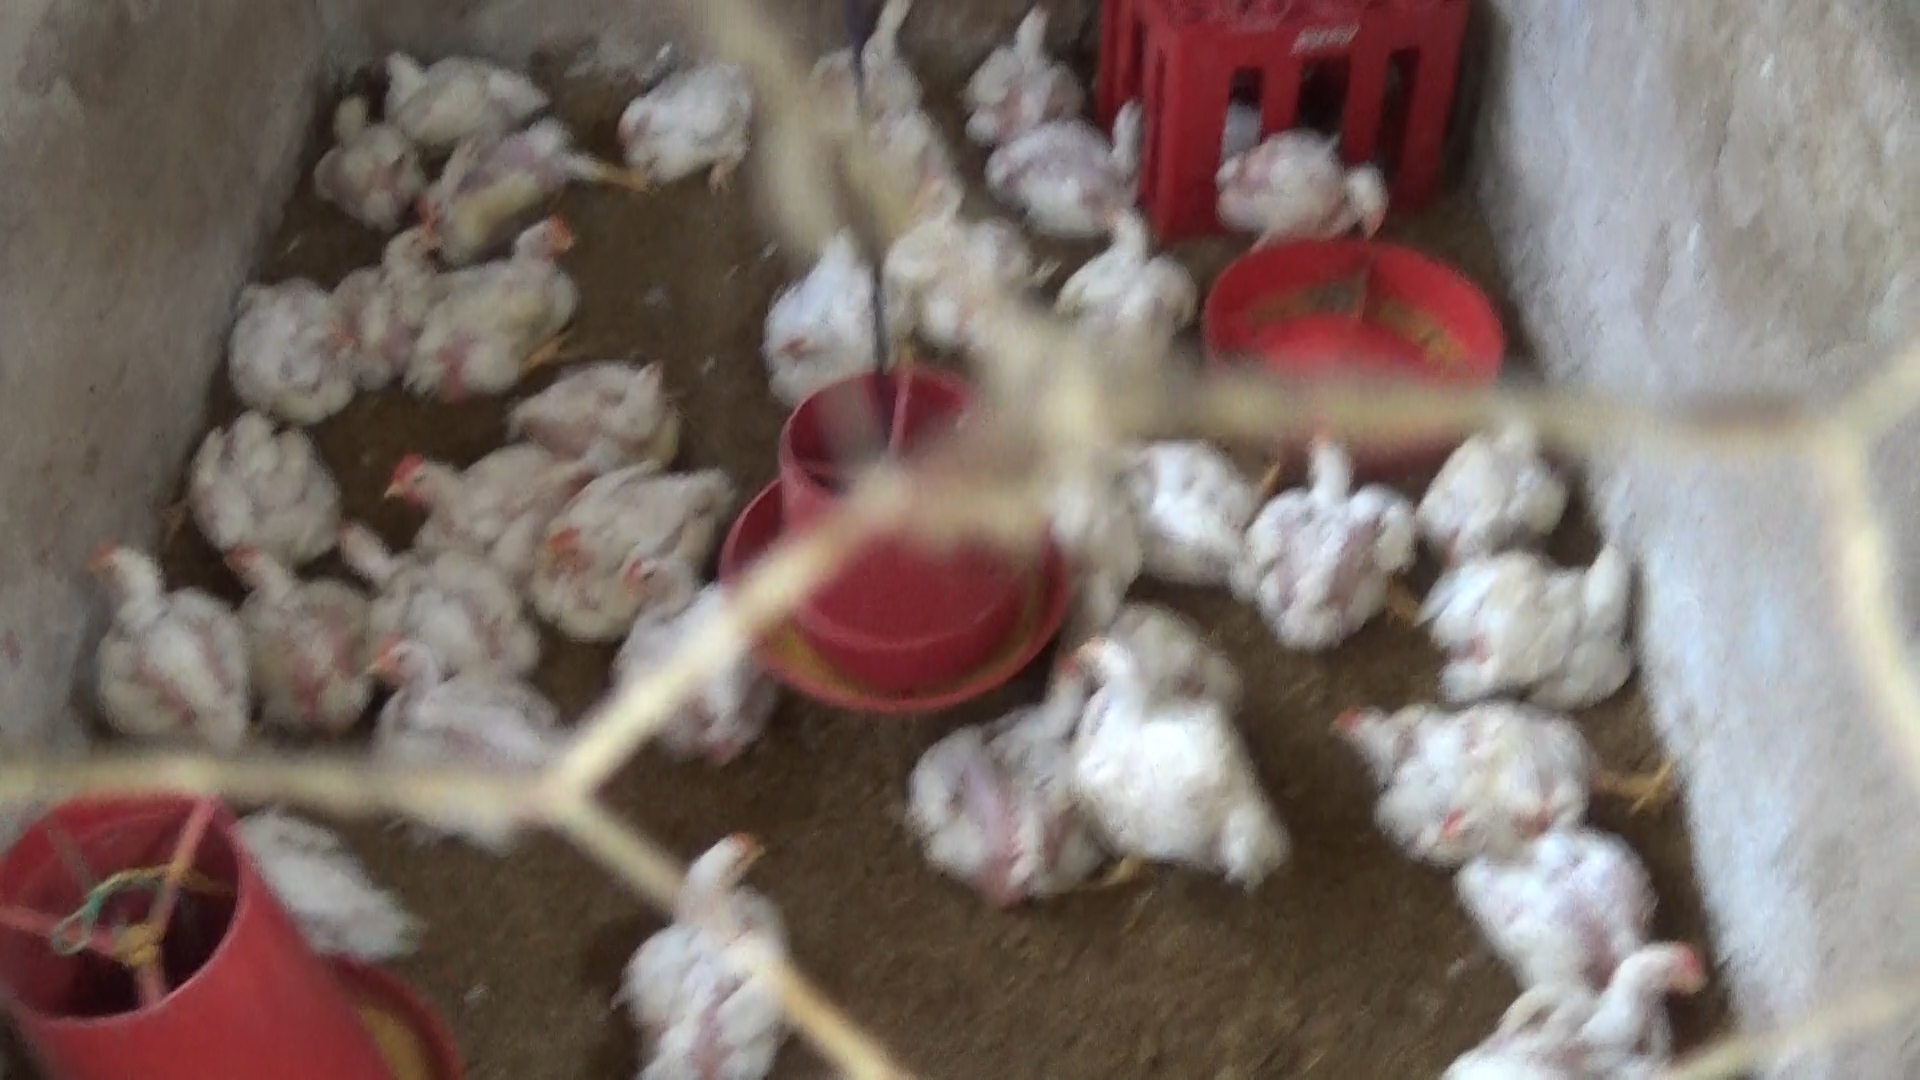Pollos: (1046, 618, 1288, 882), (1325, 687, 1695, 848), (630, 814, 808, 1080), (922, 688, 1124, 920), (1237, 415, 1418, 649), (75, 526, 258, 756), (1431, 942, 1733, 1080), (353, 632, 574, 812), (1406, 549, 1658, 703), (1440, 808, 1683, 967), (535, 452, 738, 640), (1083, 411, 1275, 593), (392, 223, 593, 396), (214, 533, 378, 731), (338, 512, 537, 674), (960, 98, 1174, 248), (615, 549, 764, 757), (225, 808, 407, 963), (316, 200, 460, 396), (742, 204, 887, 393), (1200, 123, 1389, 266), (436, 108, 644, 239), (1411, 402, 1576, 563), (371, 431, 562, 567), (182, 404, 342, 564), (225, 268, 360, 431), (953, 0, 1101, 142), (1051, 194, 1189, 345), (517, 334, 711, 440), (616, 51, 754, 198), (375, 33, 562, 135), (302, 71, 435, 214)
